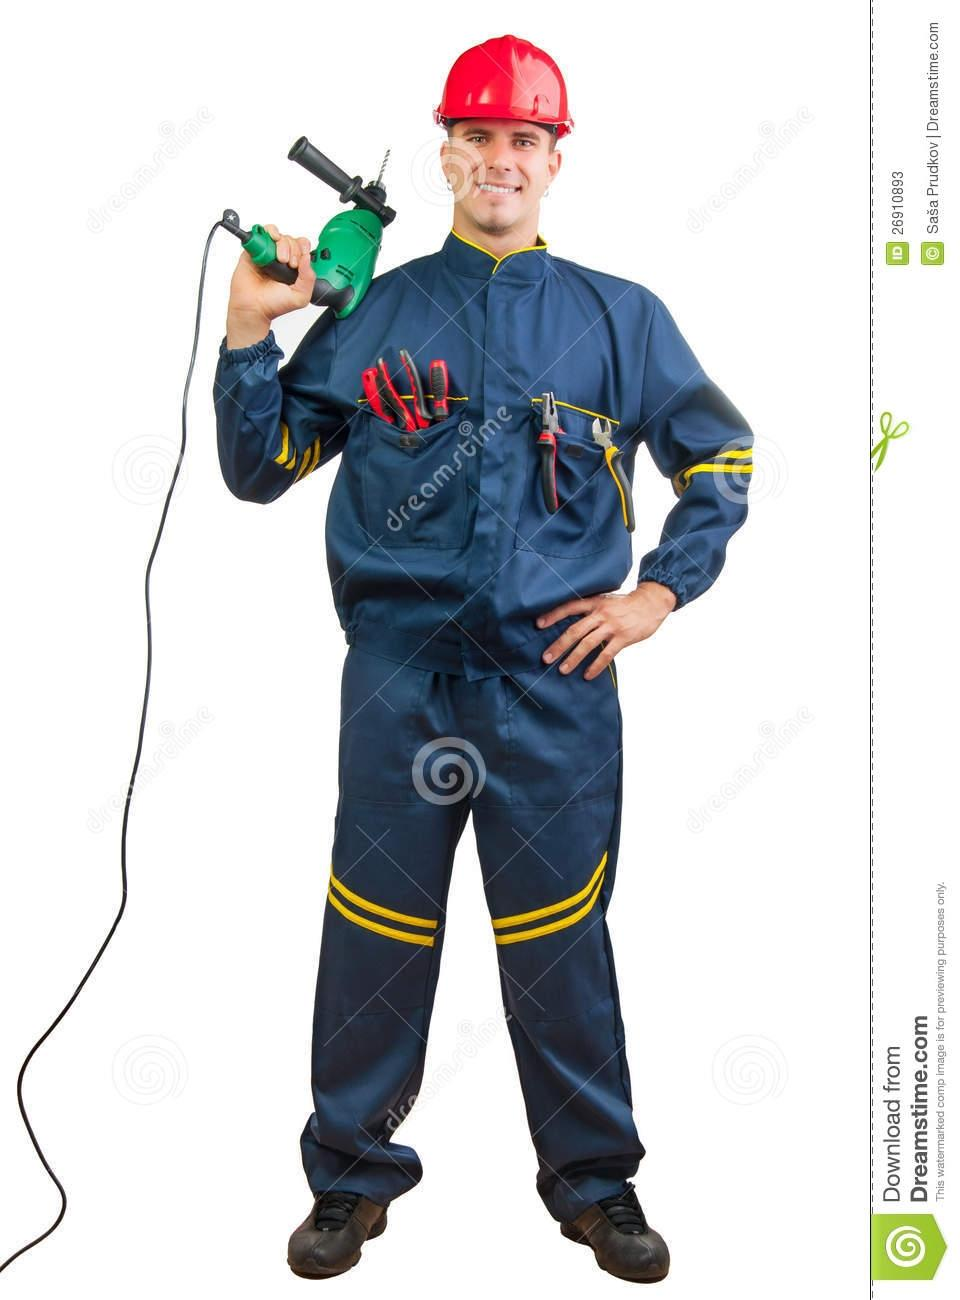helmet: (435, 34, 579, 142)
wear: (334, 262, 638, 647)
